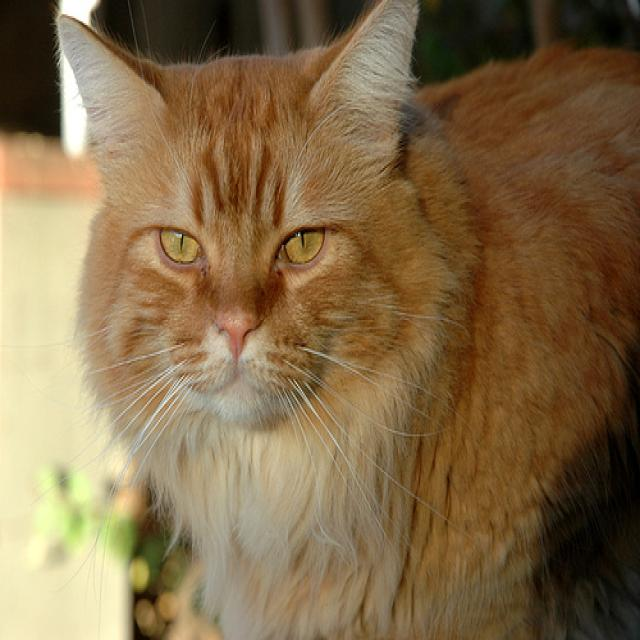cat: (44, 1, 639, 639)
